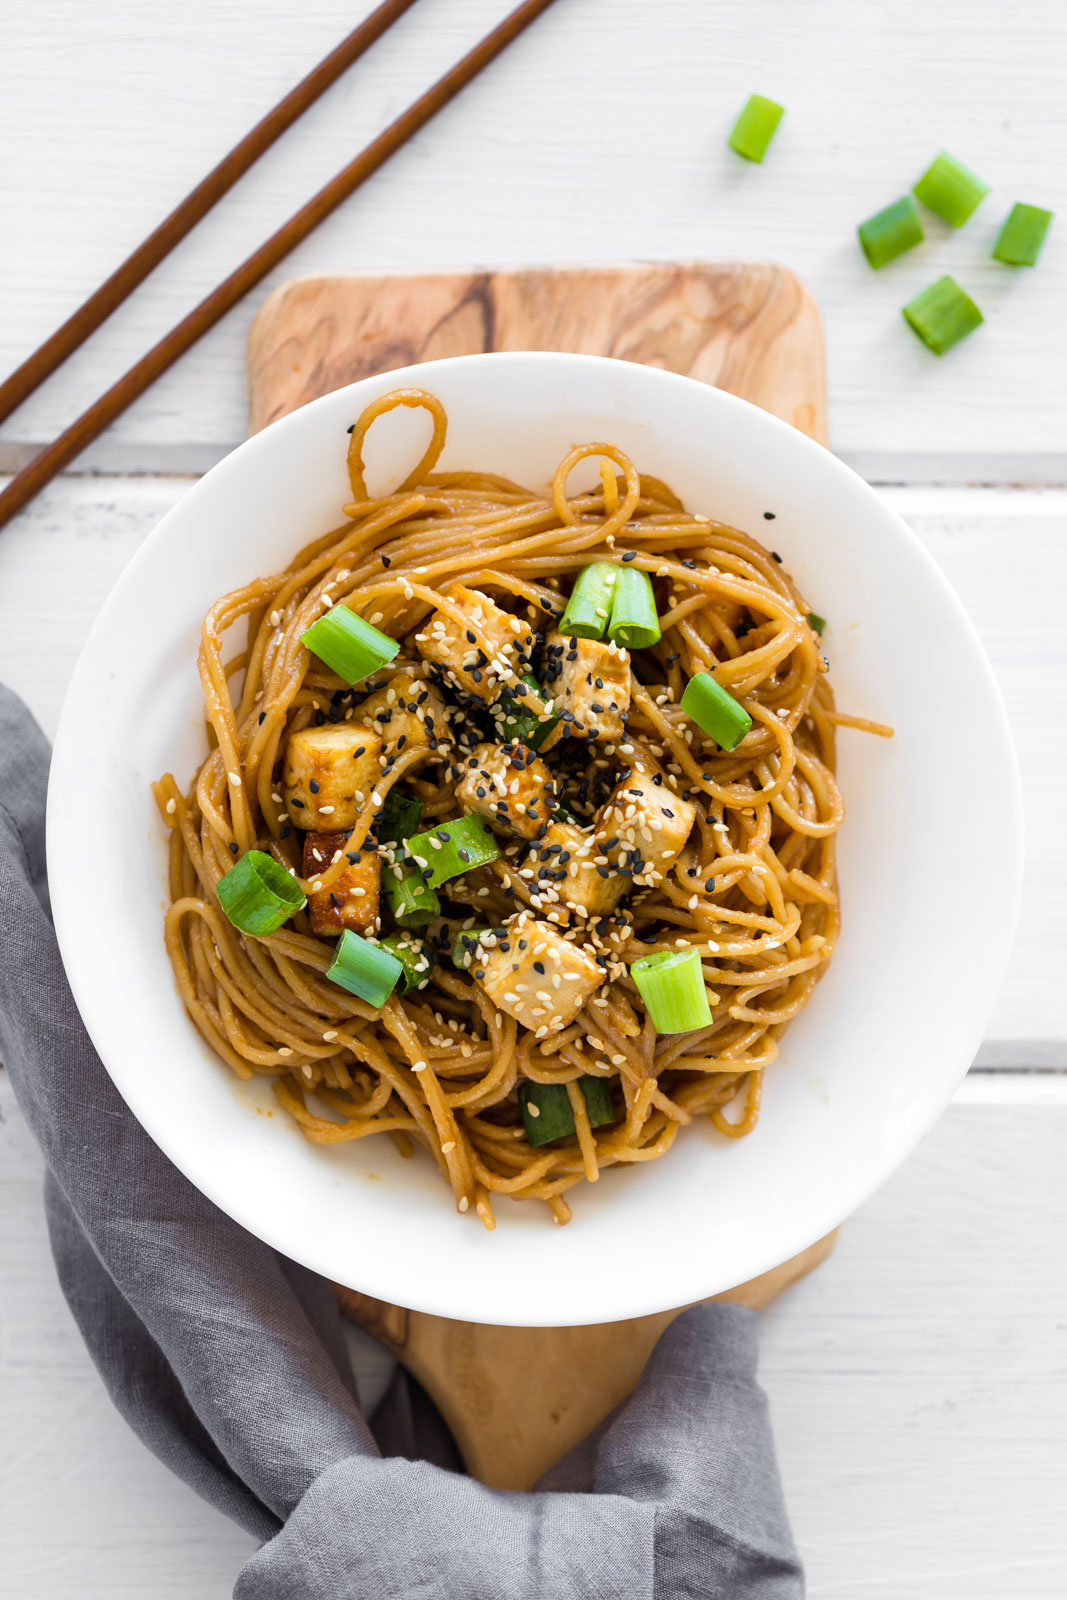Soba: (164, 440, 871, 1226)
